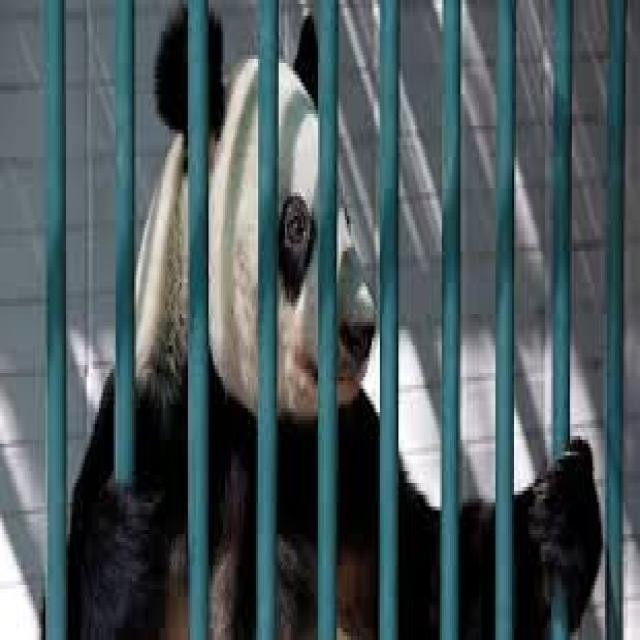Panda: (58, 15, 601, 640)
